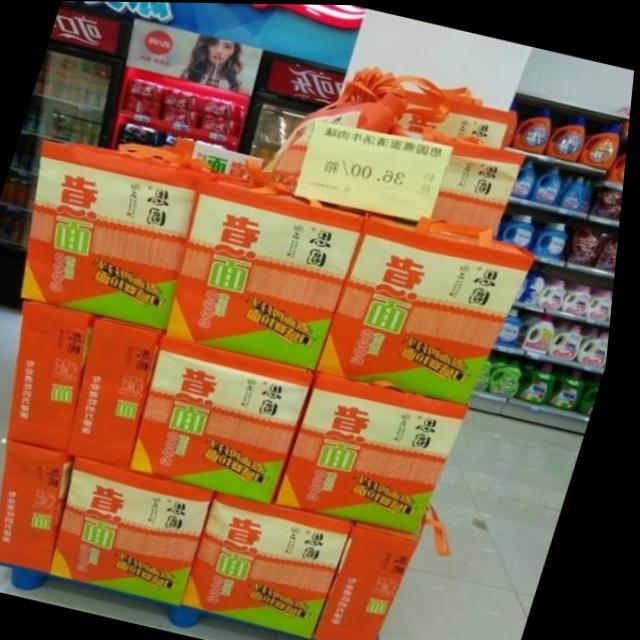box: (323, 211, 538, 403), (171, 175, 370, 369), (26, 140, 219, 328), (138, 331, 322, 504), (283, 369, 476, 531), (191, 491, 367, 637), (60, 456, 224, 605), (13, 299, 108, 455), (76, 314, 170, 469), (325, 518, 429, 640), (422, 126, 529, 237), (2, 439, 81, 573), (399, 94, 517, 148), (178, 136, 266, 177)
